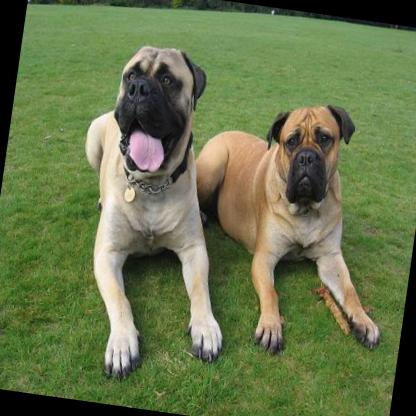bull_mastiff: (50, 37, 261, 392), (167, 84, 410, 367)
